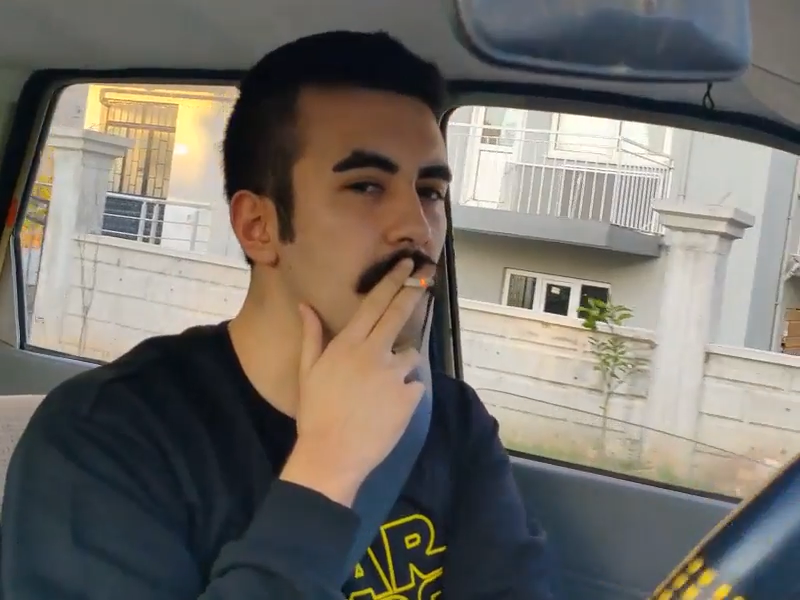sigara: (390, 272, 445, 292)
